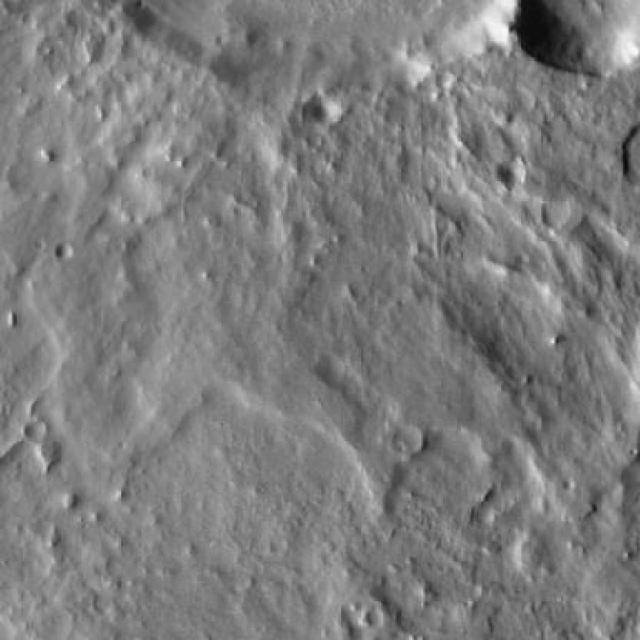crater: (119, 4, 521, 91), (521, 0, 640, 77)
